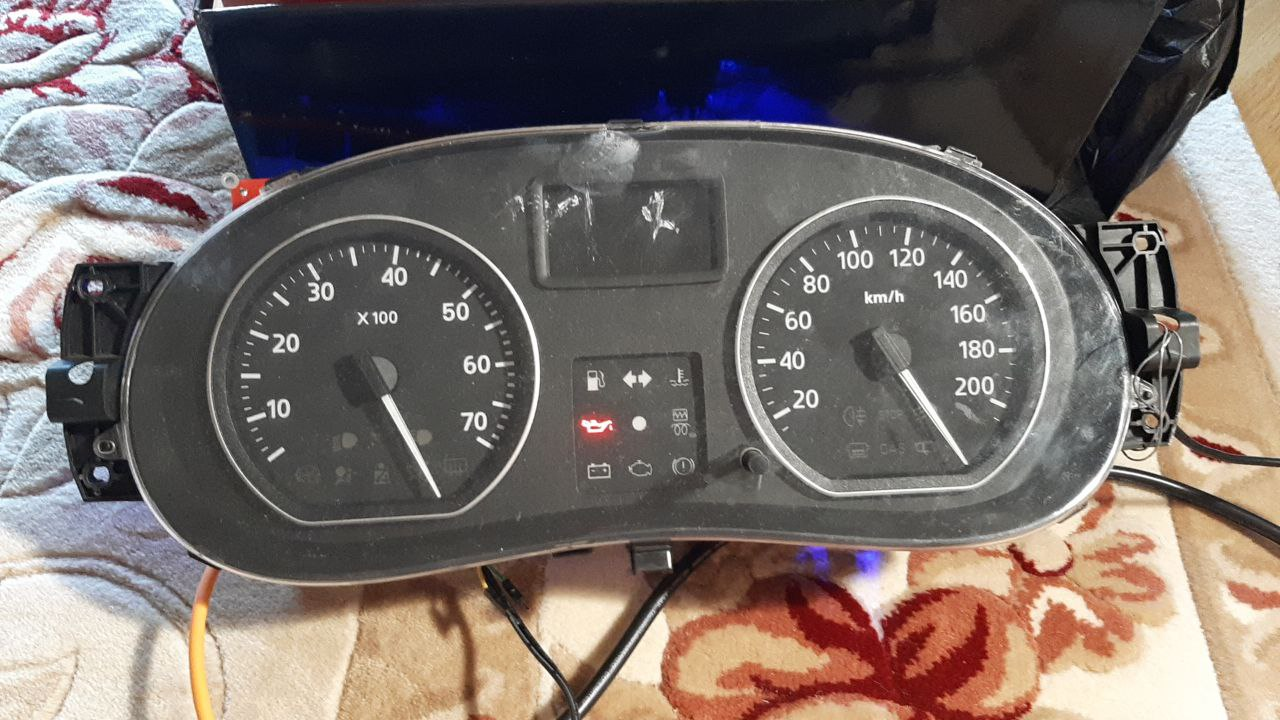oil: (577, 415, 614, 439)
